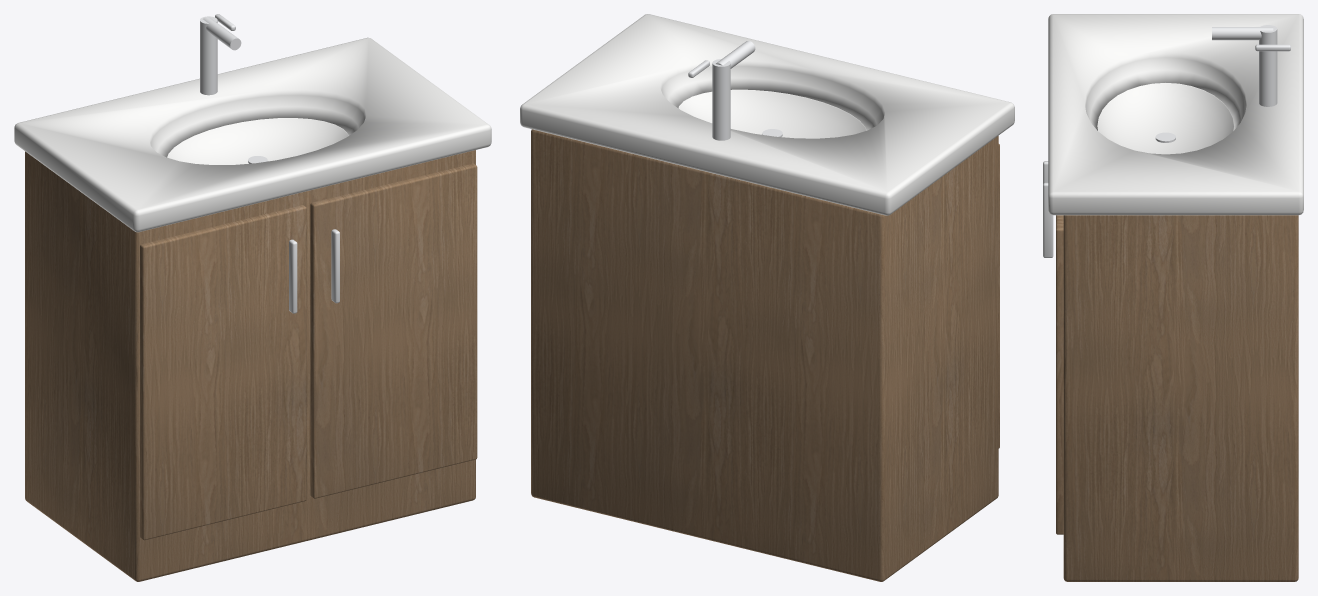
File: VanitySink.glb
3 renders of one model, left to right at view 1: azimuth 30°, elevation 25°; view 2: azimuth 150°, elevation 25°; view 3: azimuth 270°, elevation 25°, orthographic. The views are drawn at different scales.
Visible parts, largest first — view 1: VanitySink; view 2: VanitySink; view 3: VanitySink.
Boxes of the visible parts, x1,y1,x2,y2 form: VanitySink: (14,14,491,581); VanitySink: (520,14,1014,581); VanitySink: (1043,14,1303,581).
Size of the model in its own units: 0.84 by 1.01 by 0.51.
3 materials, 1 textured.
